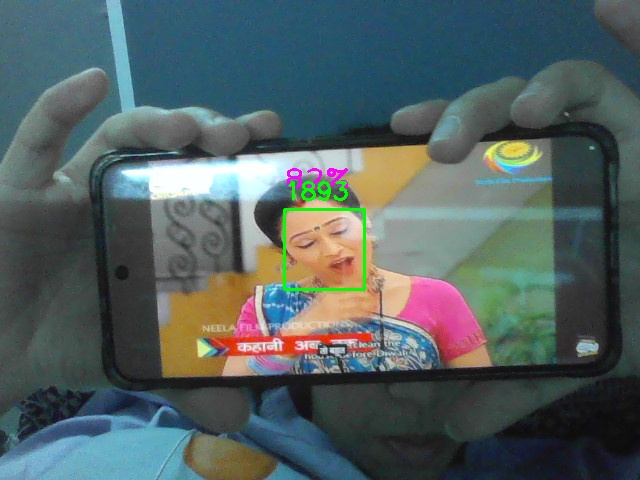fake: (284, 209, 365, 290)
